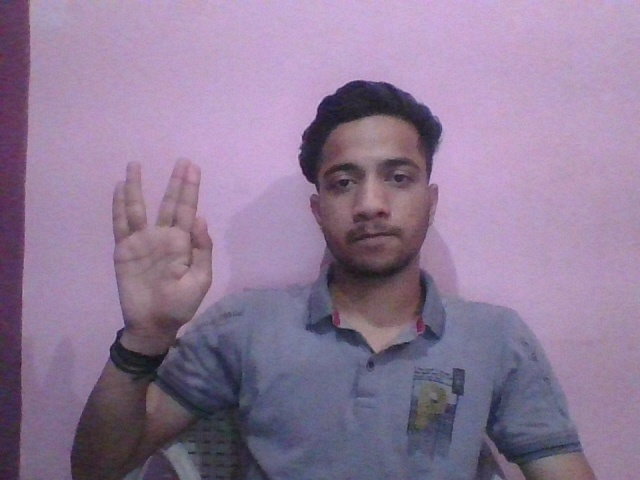livelong: (110, 154, 215, 332)
